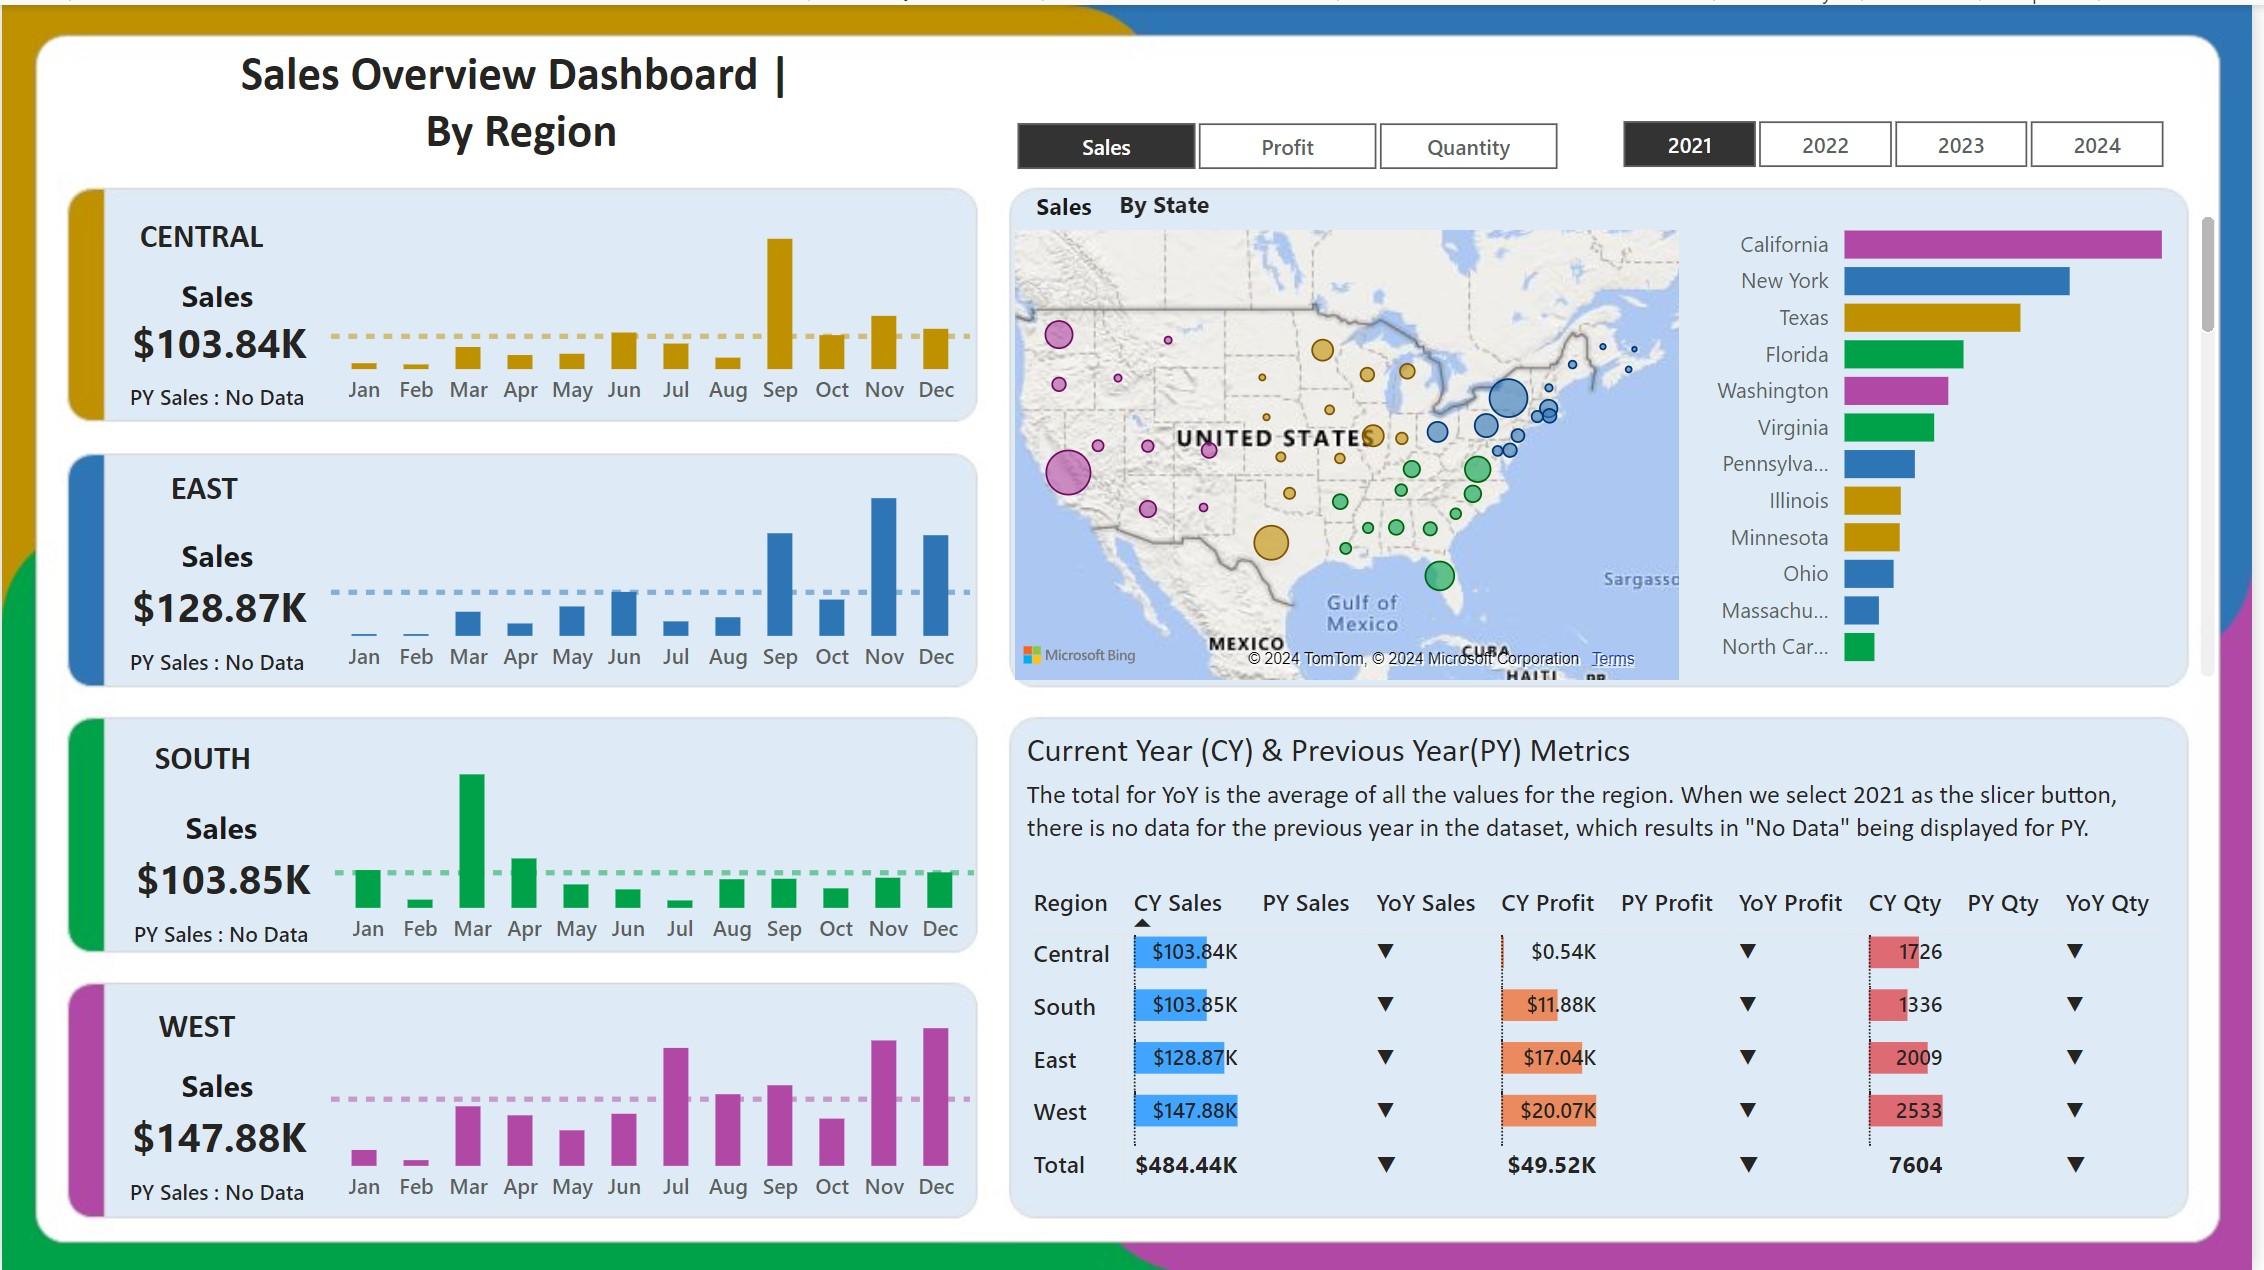

The dashboard page shown, as its layout file describes it:
{"tool":"powerbi","page":{"name":"Dashboard","canvas":[1280,720],"ordinal":0},"visuals":[{"type":"slicer","fields":{"Values":["Select Metric.Select Metric"]},"box":[543.1,59.9,357,38.2],"z":0},{"type":"slicer","fields":{"Values":["Calender Table.Year"]},"box":[883.4,59.7,356.7,39.8],"z":1000},{"type":"card","fields":{"Values":["Sales Data.Total Quantity"]},"box":[56.7,175.9,133.2,36.6],"z":1000,"group":"g1"},{"type":"card","fields":{"Values":["Sales Data.Total Quantity"]},"box":[57.2,324.6,133.2,38.3],"z":1000,"group":"g2"},{"type":"card","fields":{"Values":["Sales Data.Total Quantity"]},"box":[59.7,479.3,133.2,38.3],"z":1000,"group":"g3"},{"type":"card","fields":{"Values":["Sales Data.Total Quantity"]},"box":[57.2,626.2,133.2,38.3],"z":1000,"group":"g4"},{"type":"textbox","box":[35.7,16.6,520.2,81.6],"z":2000},{"type":"textbox","box":[63.5,115.2,99.5,38],"z":2000,"group":"g1"},{"type":"textbox","box":[64,257.9,102.6,42.9],"z":2000,"group":"g2"},{"type":"textbox","box":[66.3,411.5,96.5,42.9],"z":2000,"group":"g3"},{"type":"textbox","box":[63,564.6,96.5,36.7],"z":2000,"group":"g4"},{"type":"group","id":"g1","title":"Group 1","box":[56.7,107.2,499.1,130.1],"z":3000},{"type":"card","fields":{"Values":["Sales Data.Dynamic Title"]},"box":[75.1,152.5,94.9,24.9],"z":4000,"group":"g1"},{"type":"group","id":"g2","title":"Group 1","box":[57.2,252.6,499.1,136.3],"z":4000},{"type":"card","fields":{"Values":["Sales Data.Dynamic Title"]},"box":[75.6,300.1,94.9,26],"z":4000,"group":"g2"},{"type":"card","fields":{"Values":["Sales Data.Dynamic Title"]},"box":[78.1,454.8,94.9,26],"z":4000,"group":"g3"},{"type":"card","fields":{"Values":["Sales Data.Dynamic Title"]},"box":[75.6,601.7,94.9,26],"z":4000,"group":"g4"},{"type":"card","fields":{"Values":["Sales Data.Dynamic Title"]},"box":[555.9,99.4,95.6,35.7],"z":5000},{"type":"card","fields":{"Values":["Sales Data.PY KPI Sales"]},"box":[62.8,211,119.4,24.9],"z":5000,"group":"g1"},{"type":"card","fields":{"Values":["Sales Data.PY KPI Sales"]},"box":[63.3,361.3,119.4,26],"z":5000,"group":"g2"},{"type":"card","fields":{"Values":["Sales Data.PY KPI Sales"]},"box":[65.8,516,119.4,26],"z":5000,"group":"g3"},{"type":"card","fields":{"Values":["Sales Data.PY KPI Sales"]},"box":[63.3,662.9,119.4,26],"z":5000,"group":"g4"},{"type":"clusteredColumnChart","fields":{"Y":["Sales Data.Total Quantity"],"Category":["Calender Table.Month"]},"box":[182.3,107.2,373.6,130.1],"z":6000,"group":"g1"},{"type":"clusteredColumnChart","fields":{"Y":["Sales Data.Total Quantity"],"Category":["Calender Table.Month"]},"box":[182.8,252.6,373.6,136.3],"z":6000,"group":"g2"},{"type":"group","id":"g3","title":"Group 1","box":[59.7,407.3,499.1,136.3],"z":6000},{"type":"clusteredColumnChart","fields":{"Y":["Sales Data.Total Quantity"],"Category":["Calender Table.Month"]},"box":[185.3,407.3,373.6,136.3],"z":6000,"group":"g3"},{"type":"clusteredColumnChart","fields":{"Y":["Sales Data.Total Quantity"],"Category":["Calender Table.Month"]},"box":[182.8,554.2,373.6,136.3],"z":6000,"group":"g4"},{"type":"group","id":"g4","title":"Group 1","box":[57.2,554.2,499.1,136.3],"z":7000},{"type":"map","title":"Sales by State","fields":{"Size":["Sales Data.Total Quantity"],"Category":["Sales Data.State/Province"],"Series":["Sales Data.Region"]},"box":[571.2,122.4,387.6,266.5],"z":8000},{"type":"barChart","fields":{"Y":["Sales Data.Total Quantity"],"Category":["Sales Data.State/Province"],"Series":["Sales Data.Region"]},"box":[958.5,107.2,304.7,280.2],"z":9000},{"type":"pivotTable","fields":{"Rows":["Sales Data.Region"],"Values":["Sales Data.CY Sales","Sales Data.PY Sales","Sales Data.YoY Sales","Sales Data.CY Profit","Sales Data.PY Profit","Sales Data.YoY Profit","Sales Data.CY Qty","Sales Data.PY Qty","Sales Data.YoY Qty"]},"box":[576.3,494.7,664.2,193.8],"z":10000},{"type":"textbox","box":[577.5,406.7,373.5,34.4],"z":11000},{"type":"textbox","box":[577.5,434.7,662.9,59.9],"z":12000},{"type":"textbox","box":[627.3,99.4,94.3,31.9],"z":13000}]}

Visuals, with their boxes in screenshot pixels (x1, y1, x2, y2), scaled from the page's 1280x720 canvas onto the 2264x1270 screenshot:
slicer - Select Metric.Select Metric: [x1=961, y1=106, x2=1592, y2=173]
slicer - Calender Table.Year: [x1=1563, y1=105, x2=2193, y2=176]
card - Sales Data.Total Quantity: [x1=100, y1=310, x2=336, y2=375]
card - Sales Data.Total Quantity: [x1=101, y1=573, x2=337, y2=640]
card - Sales Data.Total Quantity: [x1=106, y1=845, x2=341, y2=913]
card - Sales Data.Total Quantity: [x1=101, y1=1105, x2=337, y2=1172]
textbox: [x1=63, y1=29, x2=983, y2=173]
textbox: [x1=112, y1=203, x2=288, y2=270]
textbox: [x1=113, y1=455, x2=295, y2=531]
textbox: [x1=117, y1=726, x2=288, y2=802]
textbox: [x1=111, y1=996, x2=282, y2=1061]
"Group 1" group: [x1=100, y1=189, x2=983, y2=419]
card - Sales Data.Dynamic Title: [x1=133, y1=269, x2=301, y2=313]
"Group 1" group: [x1=101, y1=446, x2=984, y2=686]
card - Sales Data.Dynamic Title: [x1=134, y1=529, x2=302, y2=575]
card - Sales Data.Dynamic Title: [x1=138, y1=802, x2=306, y2=848]
card - Sales Data.Dynamic Title: [x1=134, y1=1061, x2=302, y2=1107]
card - Sales Data.Dynamic Title: [x1=983, y1=175, x2=1152, y2=238]
card - Sales Data.PY KPI Sales: [x1=111, y1=372, x2=322, y2=416]
card - Sales Data.PY KPI Sales: [x1=112, y1=637, x2=323, y2=683]
card - Sales Data.PY KPI Sales: [x1=116, y1=910, x2=328, y2=956]
card - Sales Data.PY KPI Sales: [x1=112, y1=1169, x2=323, y2=1215]
clusteredColumnChart - Sales Data.Total Quantity x Calender Table.Month: [x1=322, y1=189, x2=983, y2=419]
clusteredColumnChart - Sales Data.Total Quantity x Calender Table.Month: [x1=323, y1=446, x2=984, y2=686]
"Group 1" group: [x1=106, y1=718, x2=988, y2=959]
clusteredColumnChart - Sales Data.Total Quantity x Calender Table.Month: [x1=328, y1=718, x2=989, y2=959]
clusteredColumnChart - Sales Data.Total Quantity x Calender Table.Month: [x1=323, y1=978, x2=984, y2=1218]
"Group 1" group: [x1=101, y1=978, x2=984, y2=1218]
"Sales by State" map: [x1=1010, y1=216, x2=1696, y2=686]
barChart - Sales Data.Total Quantity x Sales Data.State/Province: [x1=1695, y1=189, x2=2234, y2=683]
pivotTable - Sales Data.Region x Sales Data.CY Sales: [x1=1019, y1=873, x2=2194, y2=1214]
textbox: [x1=1021, y1=717, x2=1682, y2=778]
textbox: [x1=1021, y1=767, x2=2194, y2=872]
textbox: [x1=1110, y1=175, x2=1276, y2=232]
